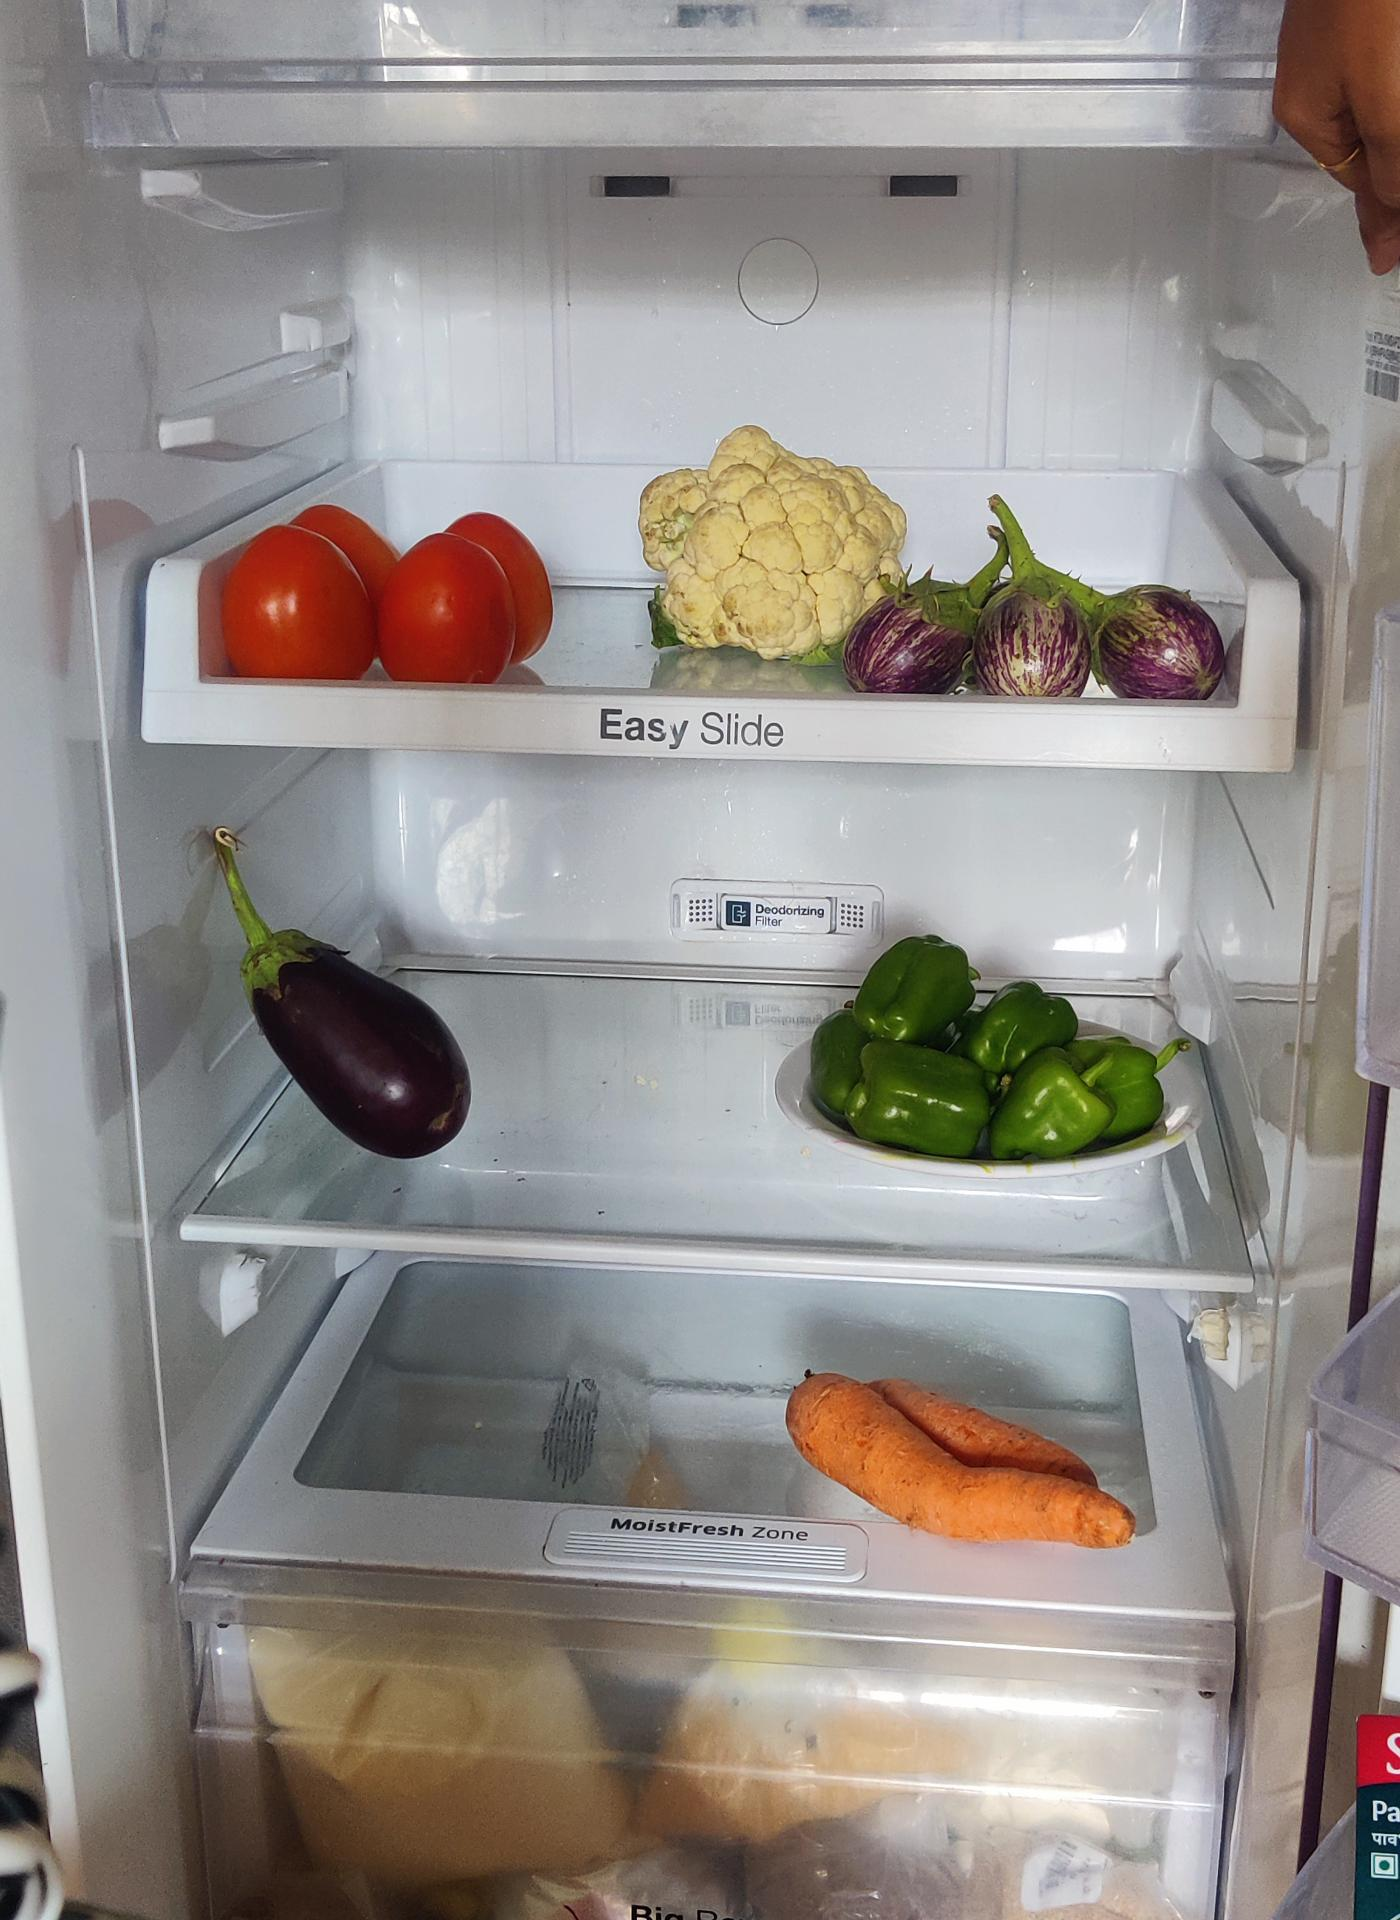brinjal: (239, 908, 479, 1164), (878, 549, 1226, 707)
capsicum: (805, 936, 1187, 1161)
carrots: (781, 1368, 1141, 1553)
cauliflower: (643, 431, 909, 665)
tomato: (213, 510, 559, 687)
